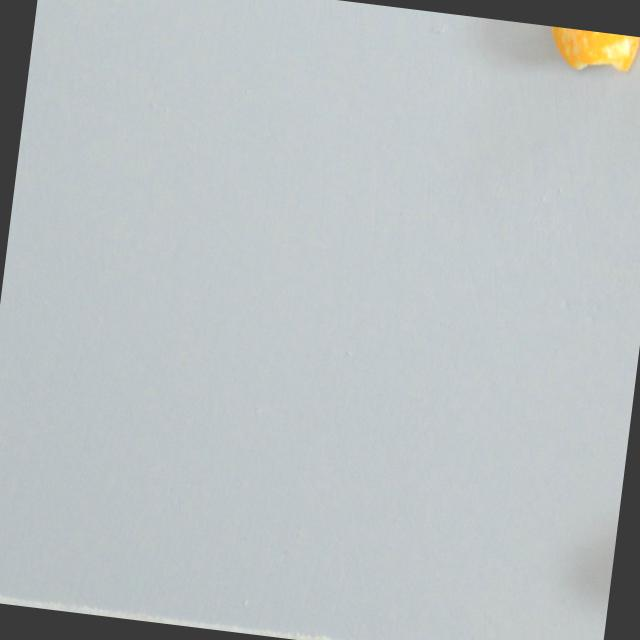pelicula: (542, 25, 640, 77)
